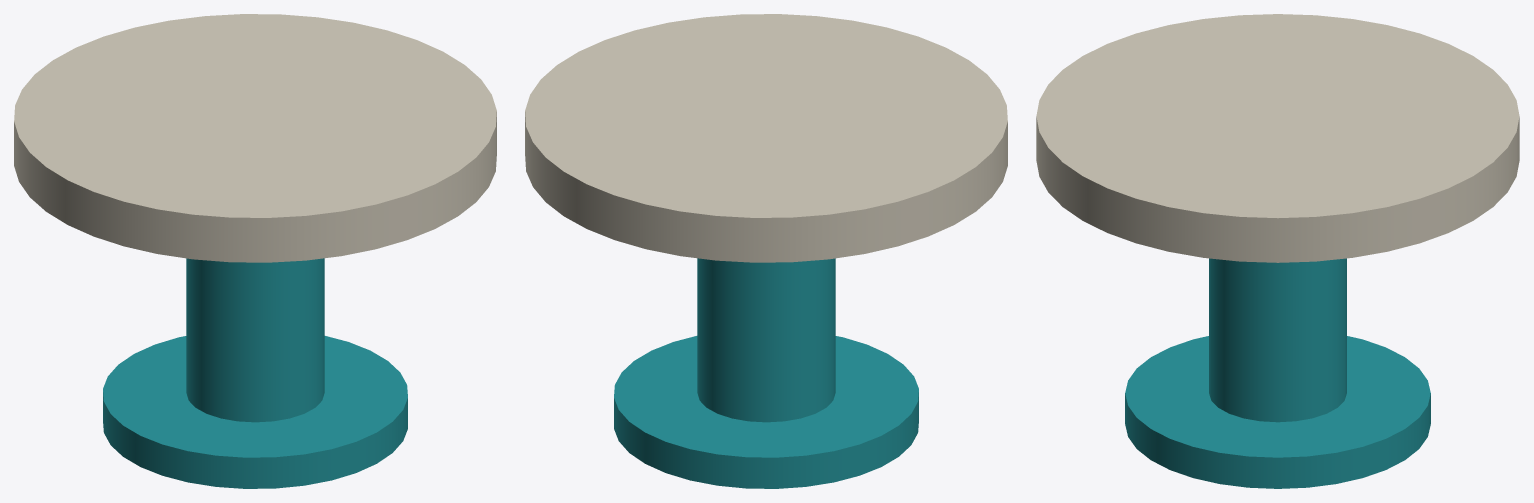
Rendered from 11_advanced_round_table.glb.
3 renders of one model, left to right at view 1: azimuth 30°, elevation 25°; view 2: azimuth 150°, elevation 25°; view 3: azimuth 270°, elevation 25°, orthographic.
Visible parts, largest first — view 1: 11_advanced_round_table__Static; view 2: 11_advanced_round_table__Static; view 3: 11_advanced_round_table__Static.
Part boxes in pixels (x1,y1,x2,y2): 11_advanced_round_table__Static: (14, 14, 496, 488); 11_advanced_round_table__Static: (525, 14, 1007, 488); 11_advanced_round_table__Static: (1036, 14, 1519, 488).
Size of the model in its own units: 0.98 by 0.69 by 0.98.
